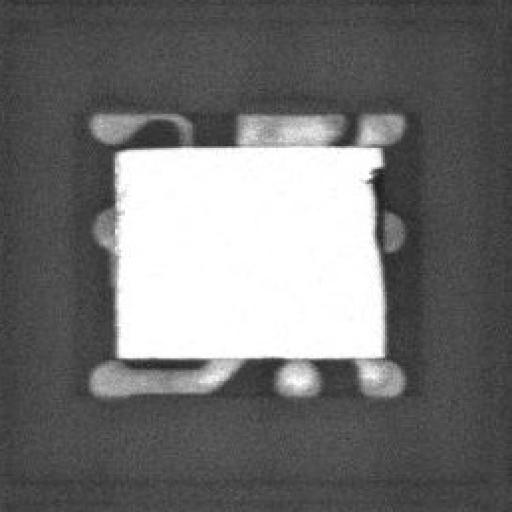DIE_BROKEN: (361, 161, 381, 256)
DIE_INK: (109, 176, 125, 266)
